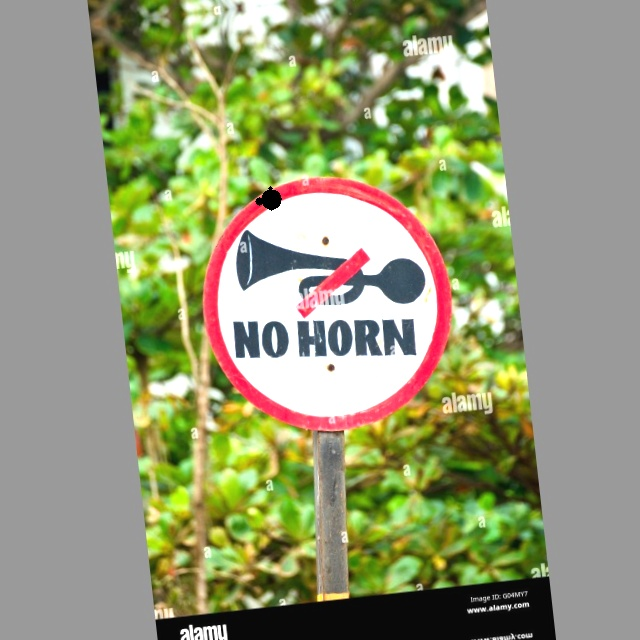Horn_Prohibited: (196, 160, 462, 446)
